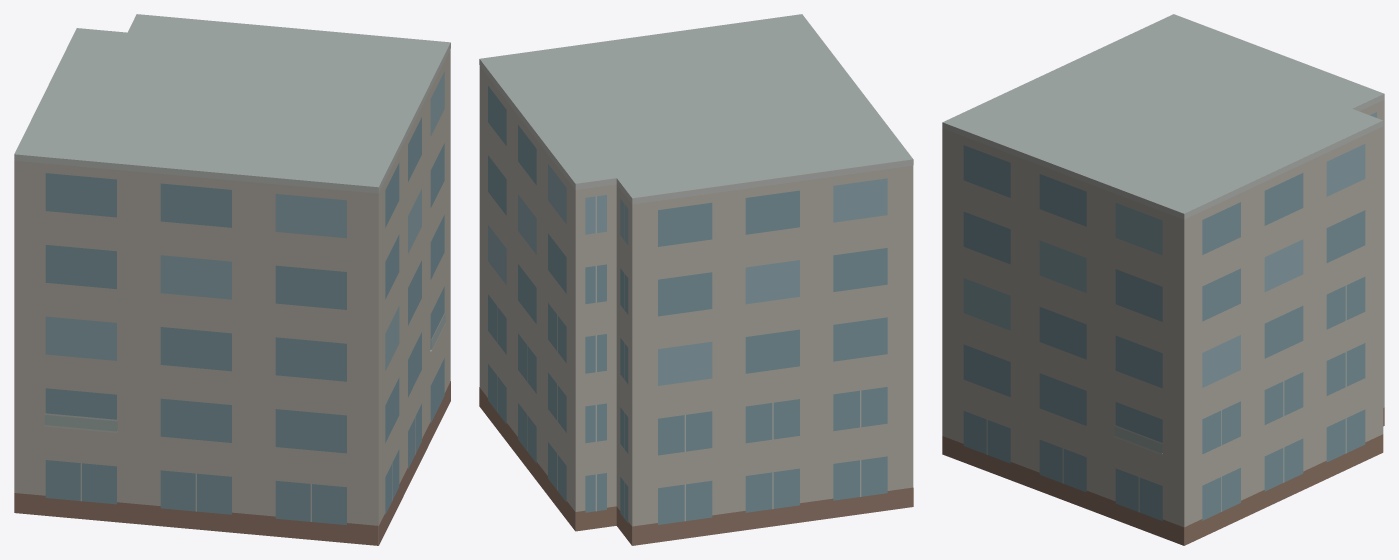
File: survey-upis-32526062.glb
3 views of the same model, side by side, from view 1: azimuth 30°, elevation 25°; view 2: azimuth 150°, elevation 25°; view 3: azimuth 270°, elevation 25° (orthographic). The views are drawn at different scales.
Visible parts, largest first — view 1: survey-upis-32526062.tmp; view 2: survey-upis-32526062.tmp; view 3: survey-upis-32526062.tmp.
Boxes of the visible parts, x1,y1,x2,y2 form: survey-upis-32526062.tmp: (14, 14, 450, 545); survey-upis-32526062.tmp: (479, 14, 913, 545); survey-upis-32526062.tmp: (942, 14, 1384, 545).
Size of the model in its own units: 17.94 by 13.9 by 16.78.
